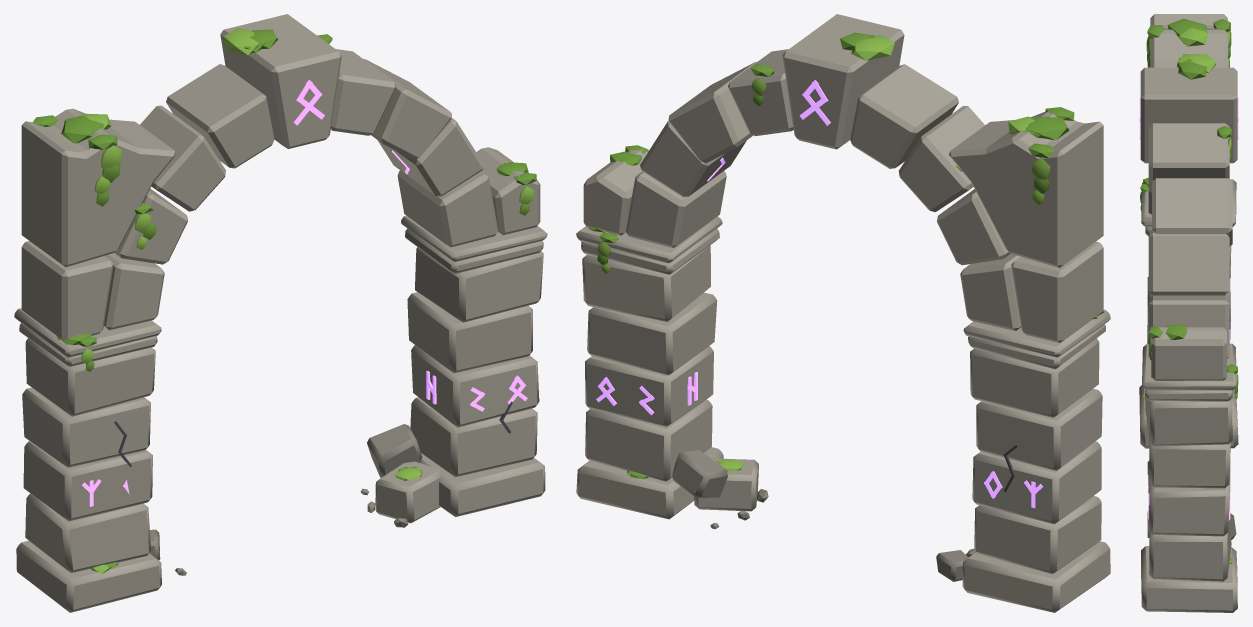
Rendered from ruin_arch.glb.
3 renders of one model, left to right at view 1: azimuth 30°, elevation 25°; view 2: azimuth 150°, elevation 25°; view 3: azimuth 270°, elevation 25°, orthographic. The views are drawn at different scales.
Parts seen in each view (by area): view 1: RuinArch; view 2: RuinArch; view 3: RuinArch.
Boxes of the visible parts, x1,y1,x2,y2 form: RuinArch: [14, 14, 547, 612]; RuinArch: [576, 14, 1110, 612]; RuinArch: [1139, 14, 1238, 612].
Size of what is drawn, in the model's own units: 6.03 by 6.08 by 1.23.
